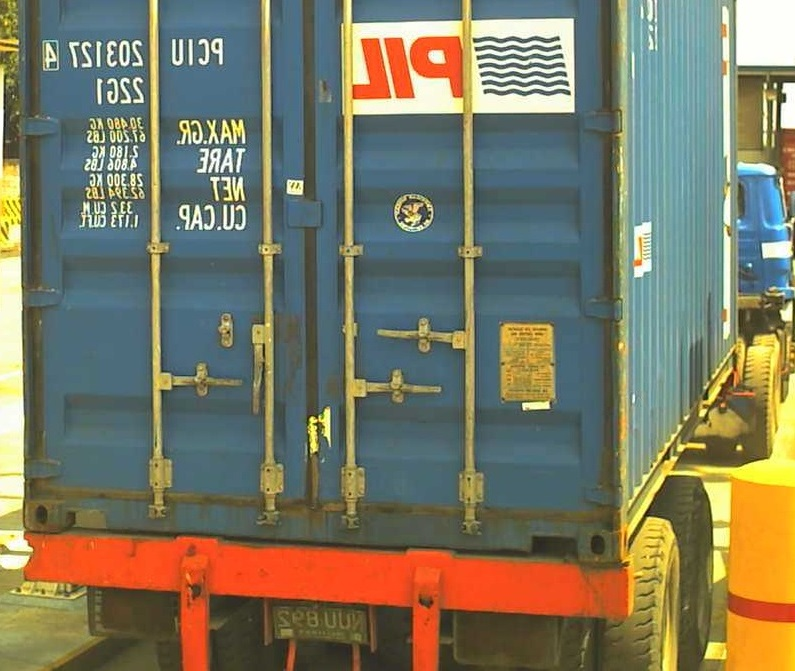container_door: (21, 5, 622, 564)
